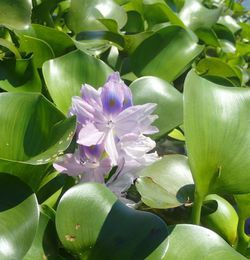water_hyacinth: (0, 0, 250, 260)
